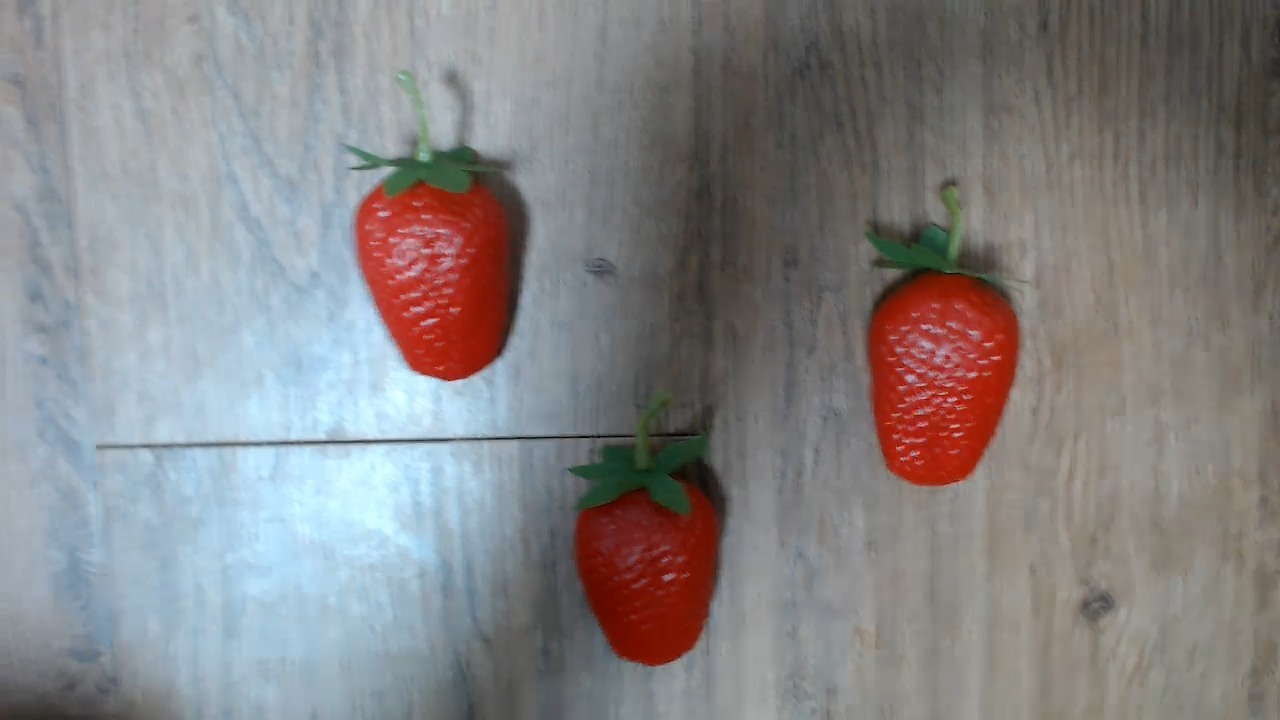strawberry: (341, 137, 530, 387), (556, 441, 751, 672), (867, 223, 1029, 489)
